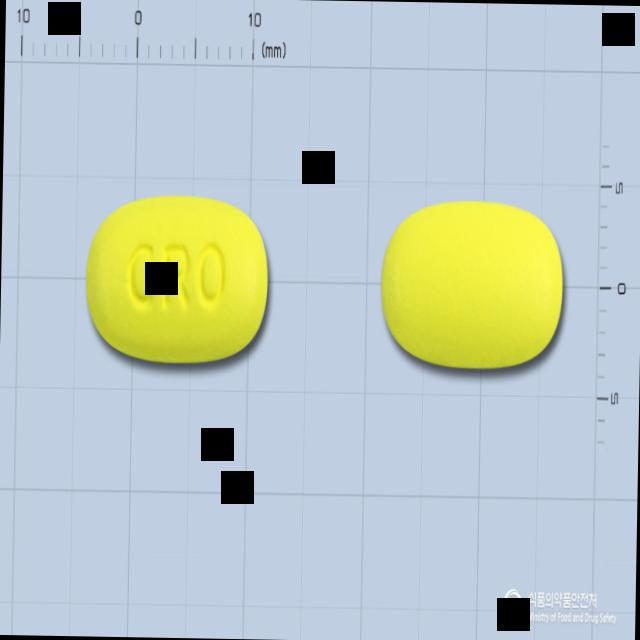Clarosin: (84, 190, 271, 367)
